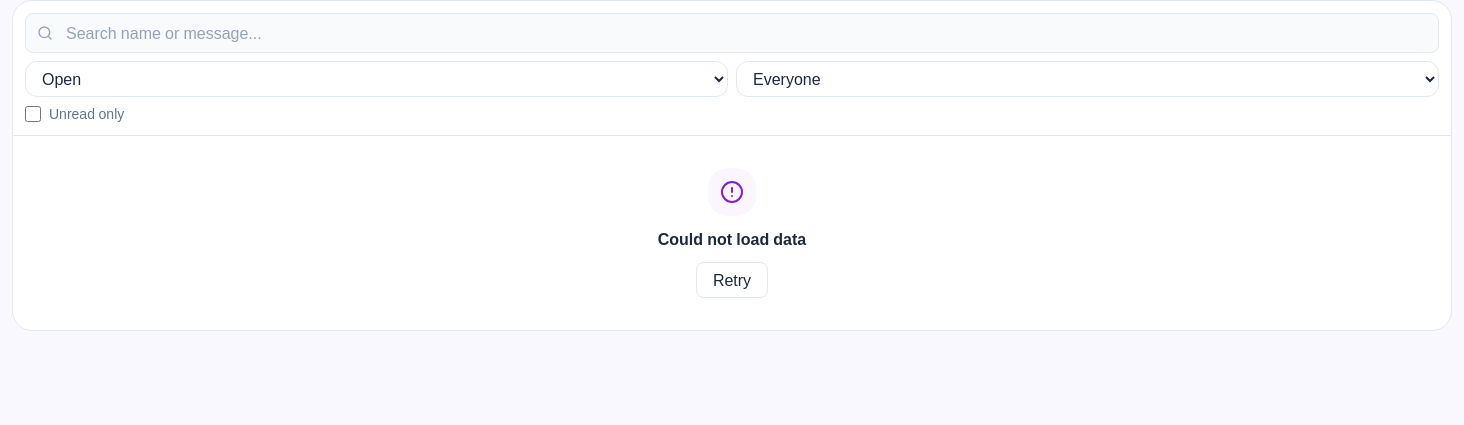
ConversationList › ໂຫຼດບໍ່ສຳເລັດ: ສະແດງ error ແລະ ປຸ່ມລອງໃໝ່
The width and height of the screenshot is (1464, 425).
Expected: the text "Could not load data" is shown, [658,228,806,250]
Click the button "Retry" at (732, 280), box [696,262,768,298]
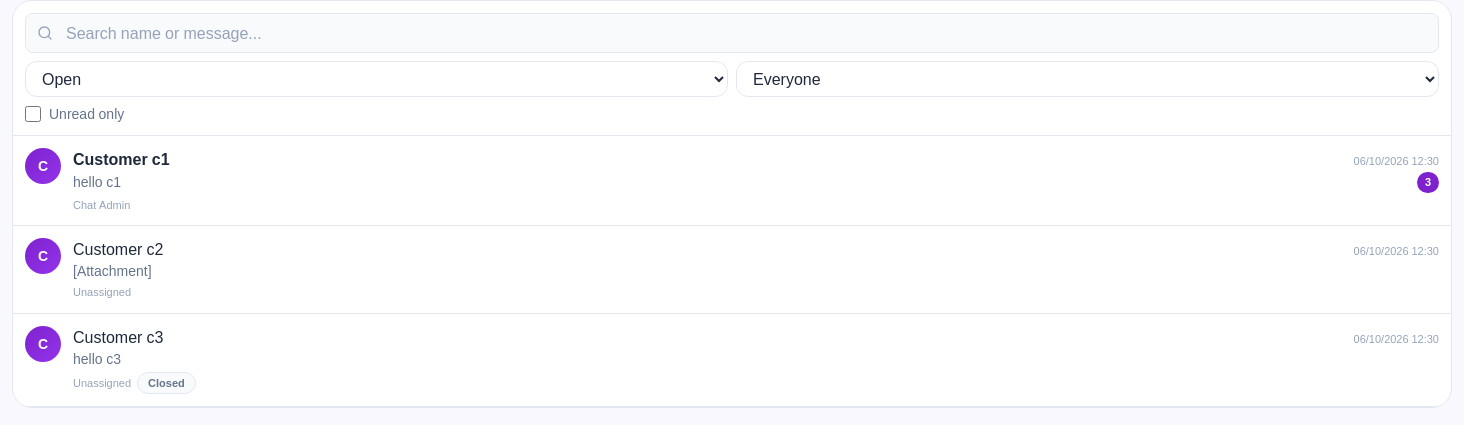
Expected: the button with test id "conversation-c1" is shown, [13,136,1451,226]
